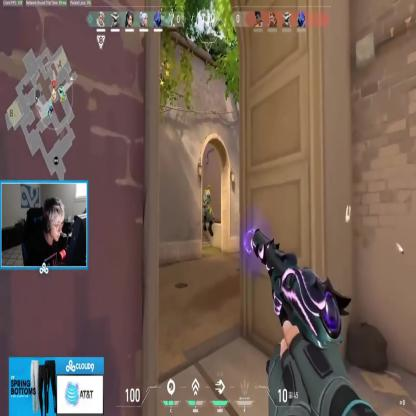enemy: (202, 184, 214, 236)
enemy_head: (208, 185, 211, 191)
